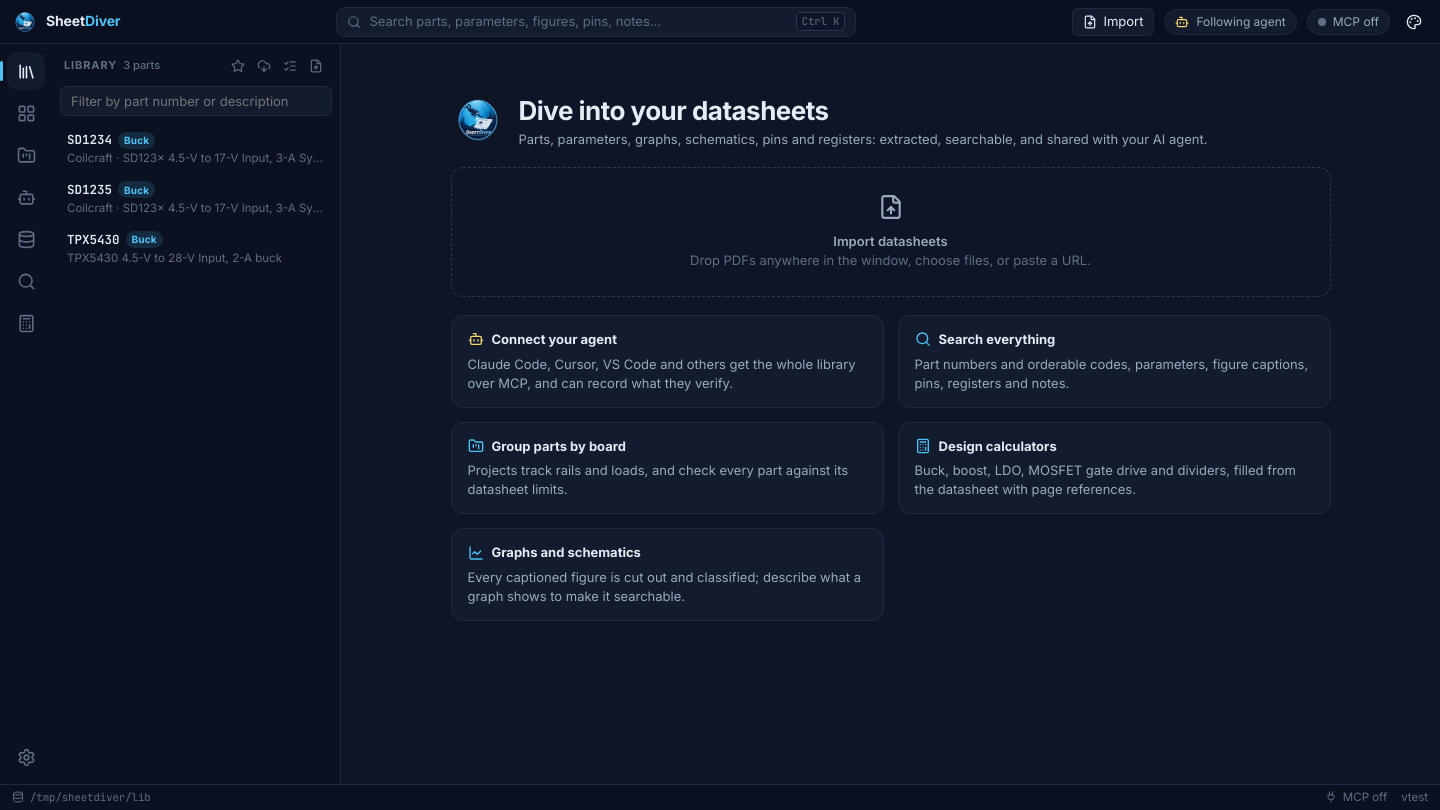
Test case: App › opens search, settings and the import dialog from the keyboard and title bar
Expected: the text "SD1234" is shown, [67,131,112,148]
Step 1. Press k
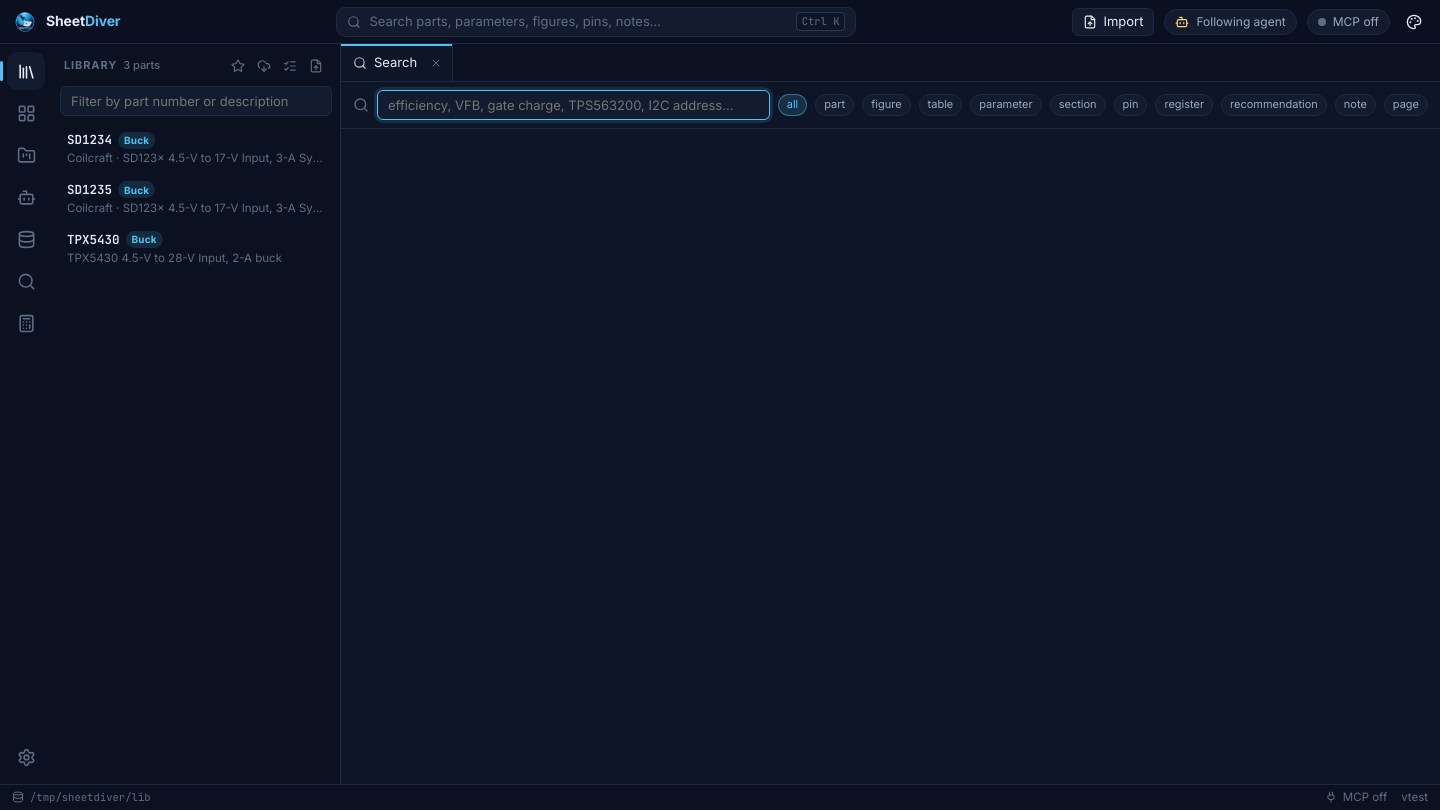
Expected: the field with placeholder "efficiency, VFB, gate charge, TPS563200, I2C address…" is shown, [377,90,770,120]
Step 2. Click the button named "Settings" → (26, 757), box [7,738,45,776]
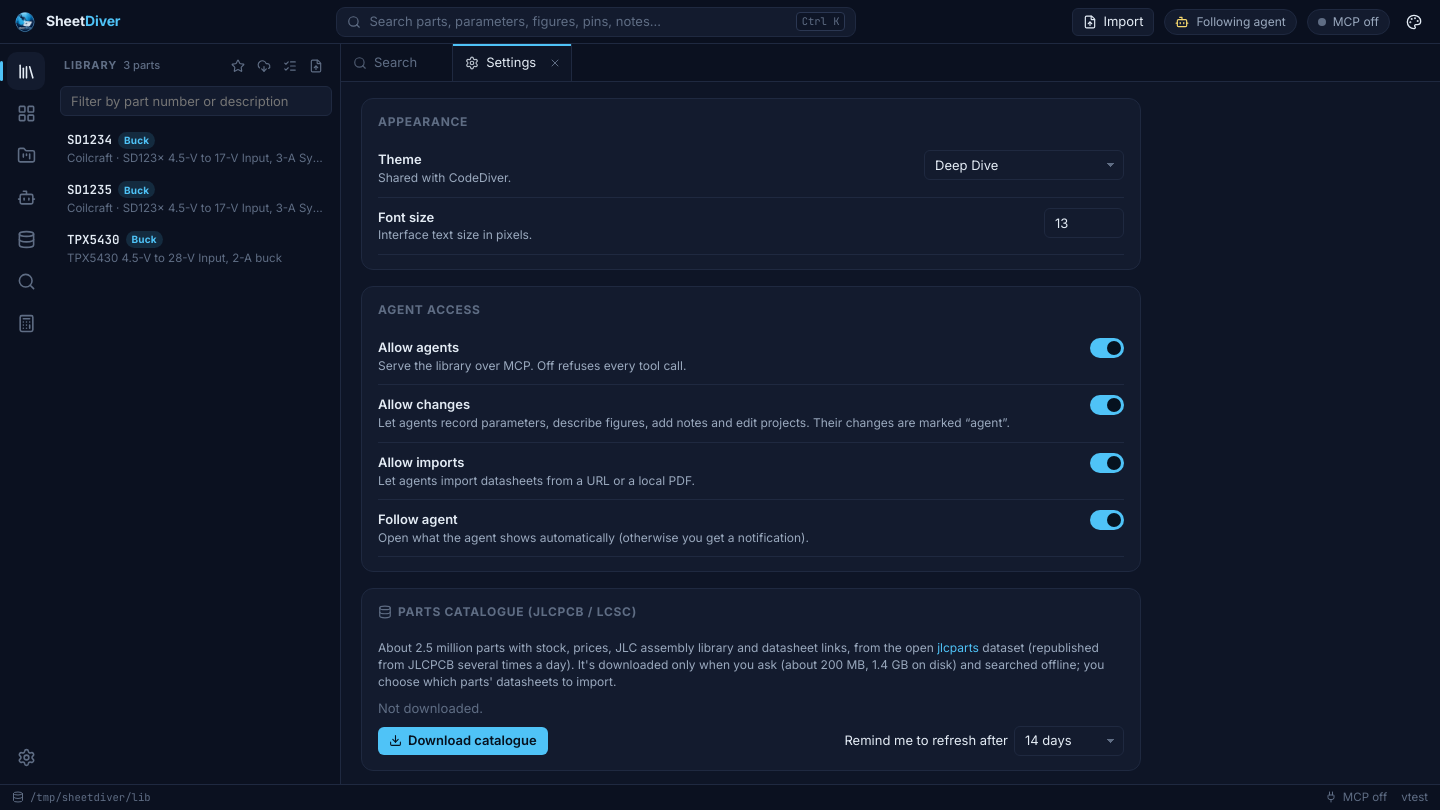
Expected: the heading "Agent access" is shown, [378,302,481,317]
Step 3. Press o
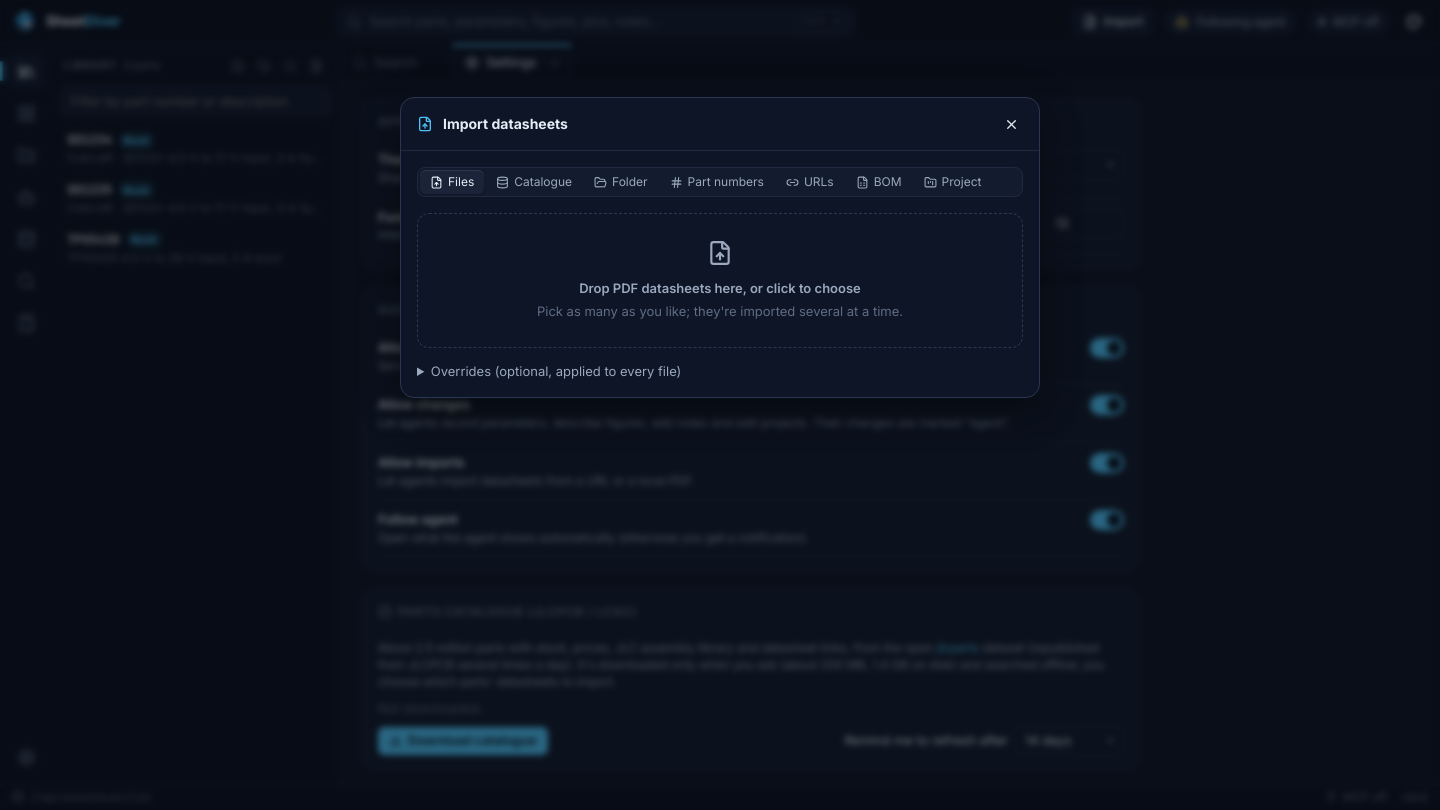
Expected: the dialog "Import datasheets" is shown, [400,97,1040,398]
